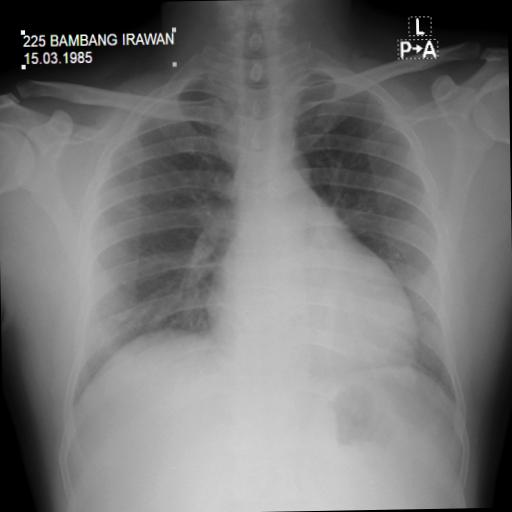kardiomegali: (56, 48, 467, 422)
